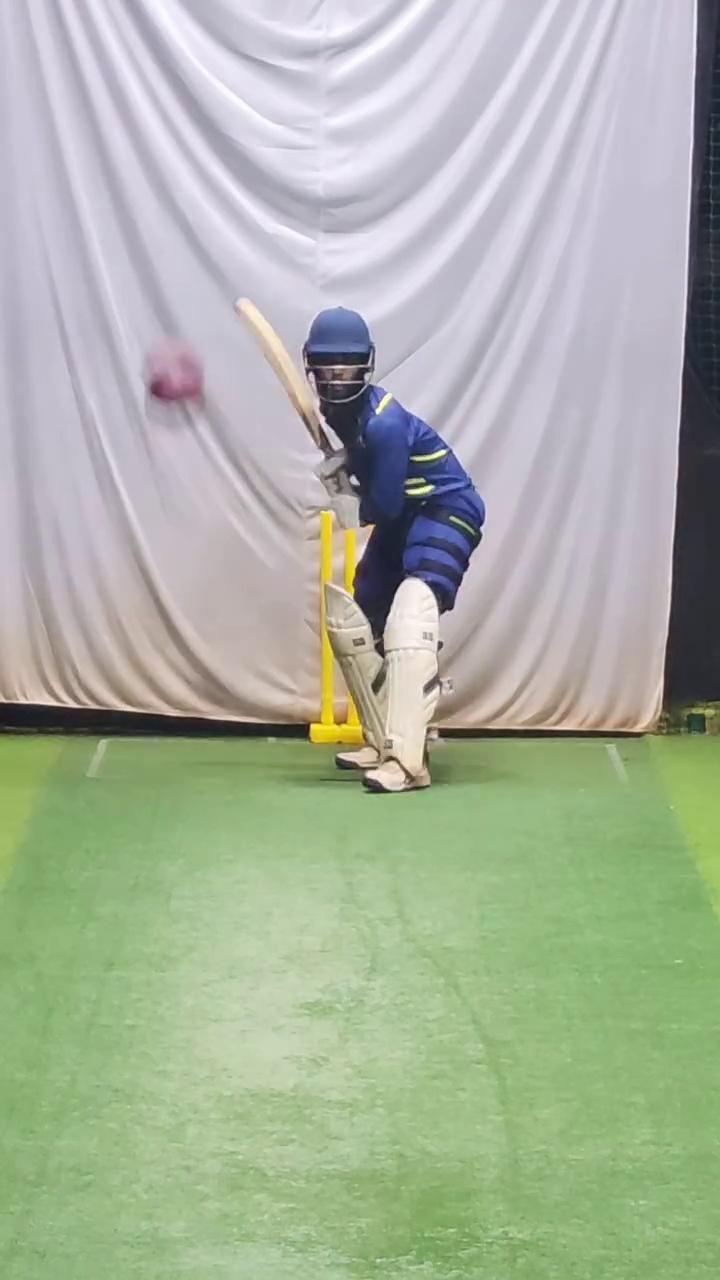bat: (228, 287, 332, 460)
